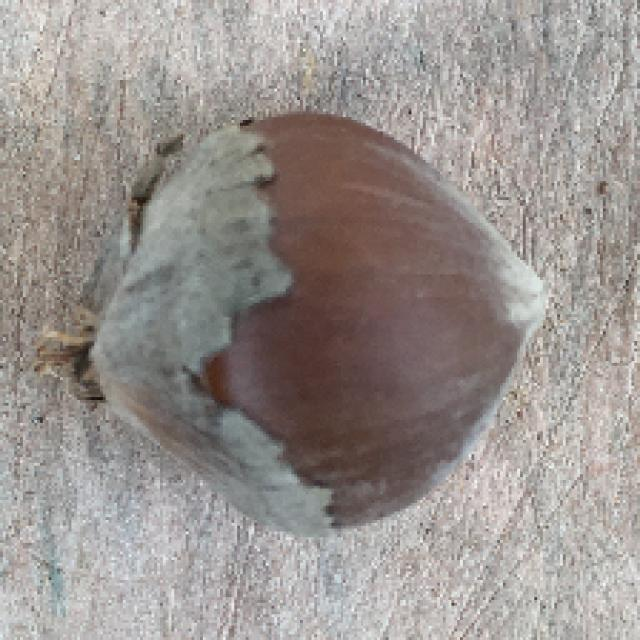damagedHazelnut: (92, 104, 554, 536)
